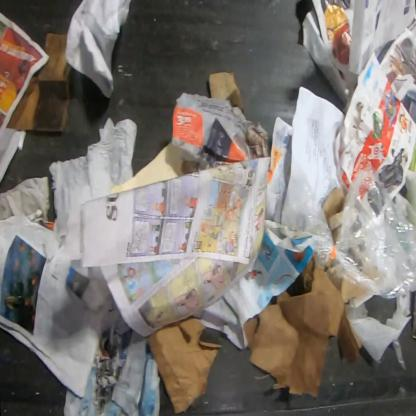cardboard: (243, 255, 363, 398), (145, 316, 223, 414), (6, 32, 74, 133), (208, 71, 245, 116)
soft_plastic: (305, 163, 416, 300)
